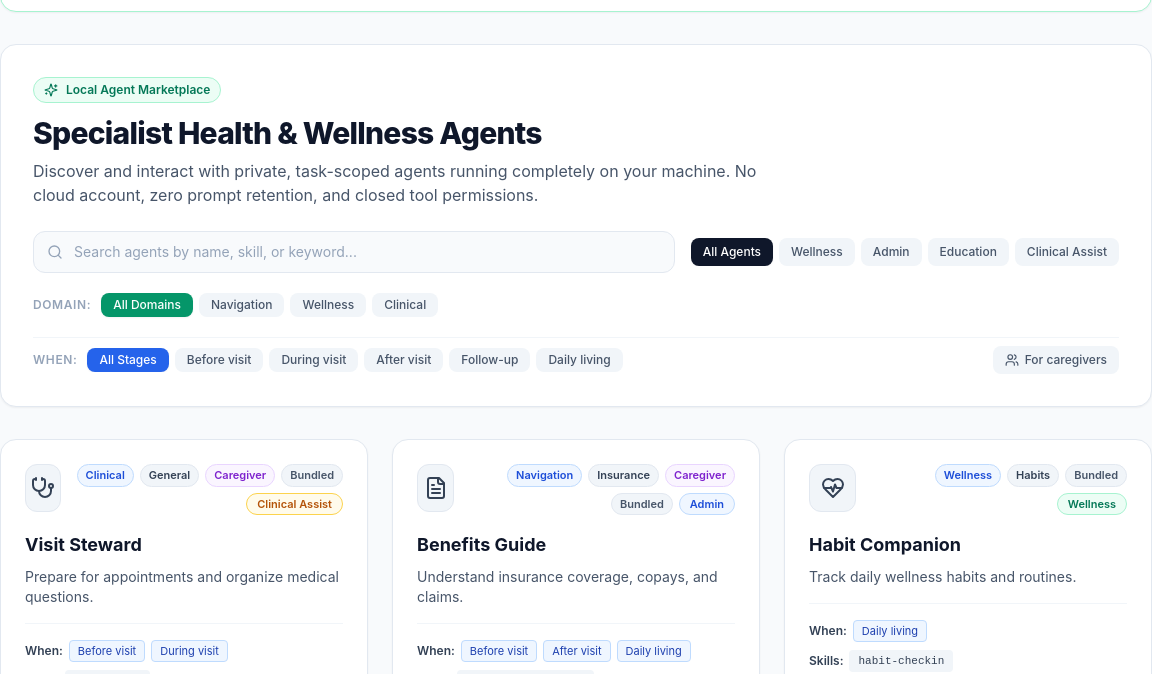
MarketplaceClient Data-Driven Filters › renders "For caregivers" toggle switch and filters agents by target_audience
(page scrolled)
Expected: the link "Habit Companion" is shown, [809,534,961,555]
# Toggle on
What coordinates should you click on to do the following:
click the switch with test id "caregiver-filter"
I would click on:
 (1056, 360)
Its box is [993,346,1119,374].
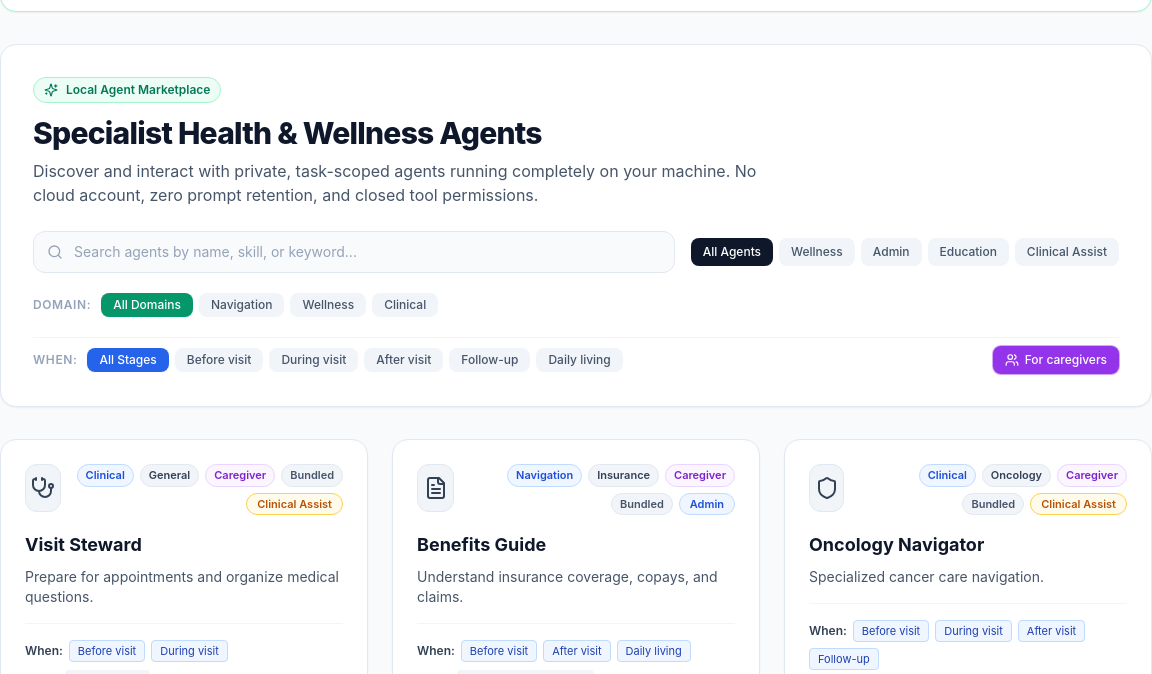
Expected: the link "Visit Steward" is shown, [25,534,142,555]
Now the link "Habit Companion" is gone
# Toggle off
What coordinates should you click on to do the following:
click the switch with test id "caregiver-filter"
I would click on:
 (1056, 360)
Its box is [993,346,1119,374].
(page scrolled)
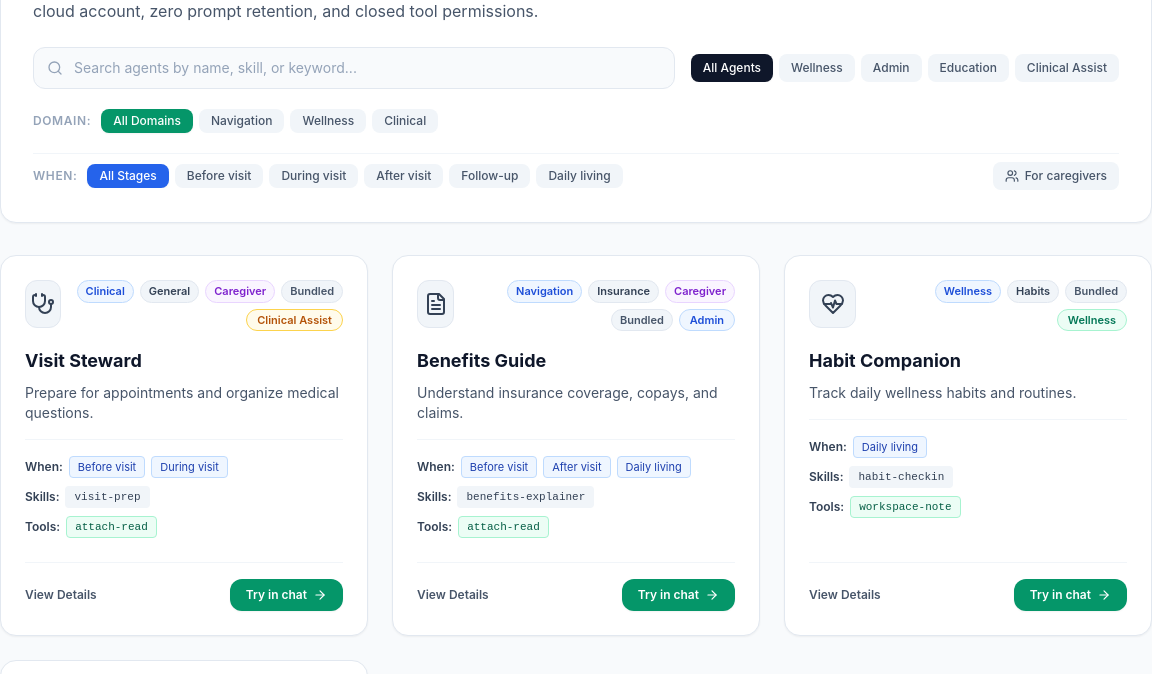
Now the link "Habit Companion" is shown, box [809,350,961,371]
